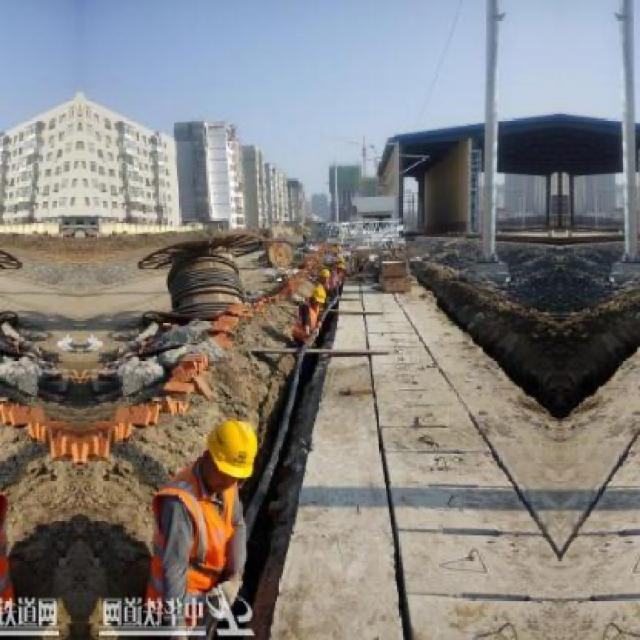helmet: (210, 414, 258, 492), (304, 286, 330, 309), (315, 265, 337, 286)
